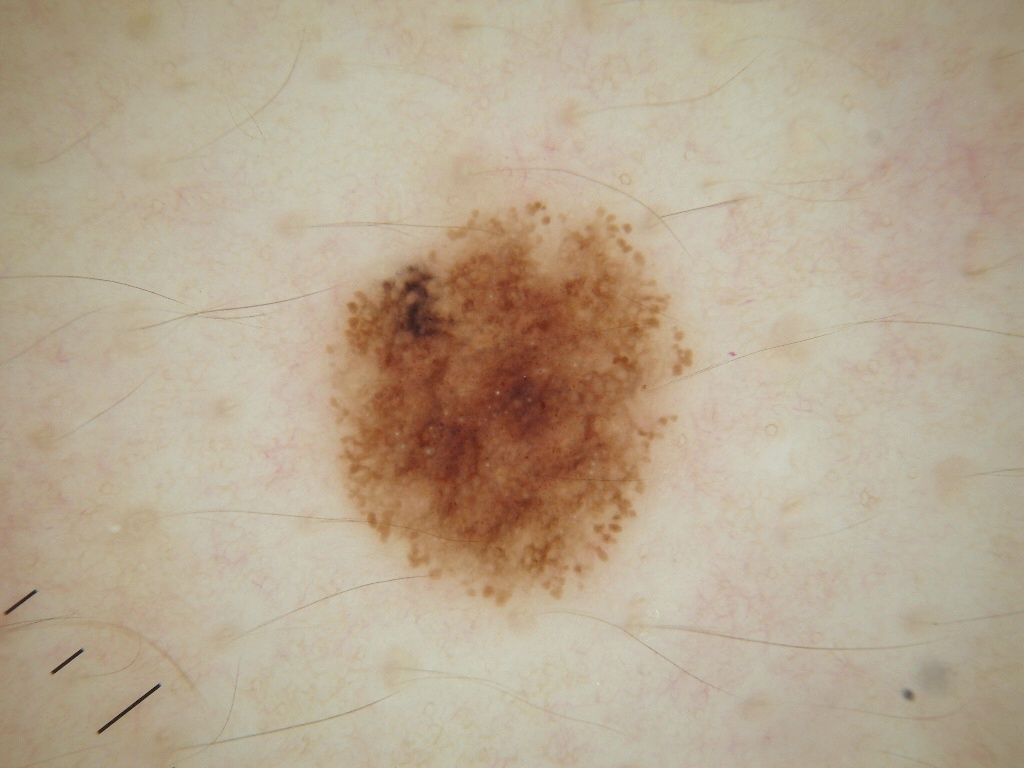Detected Lesion: (318, 194, 709, 613)
